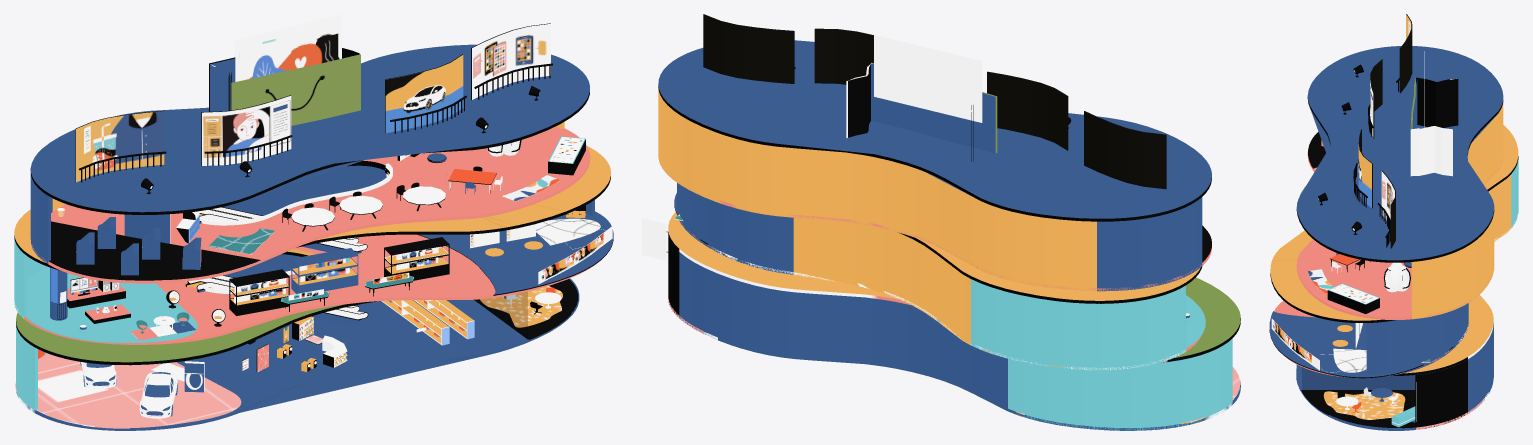
The picture shows the model from 3 angles, left to right: view 1: azimuth 30°, elevation 25°; view 2: azimuth 150°, elevation 25°; view 3: azimuth 270°, elevation 25°; orthographic projection. The views are drawn at different scales.
Parts seen in each view (by area): view 1: 商场, 封顶_1_1_2, 购物袋, 封顶_1_2, 封顶_1_1, 挤压_1, 立方体_9, 立方体_21, 立方体_8, 立方体_7, 立方体_6, 书架 (+31 smaller); view 2: 商场, 立方体_21, 购物袋, 立方体_6, 立方体_8, 立方体_9, 立方体_7, 立方体_3_4, 封顶_1_2; view 3: 商场, 购物袋, 封顶_1_1, 立方体_1_3, 封顶_1_2_3, 挤压_1_2, 立方体_10, 立方体_8, 立方体_6, 封顶_2, 立方体_7, 立方体_9 (+6 smaller).
Boxes of the visible parts, x1,y1,x2,y2 form: 商场: (14,44,610,430); 封顶_1_1_2: (15,353,241,428); 购物袋: (209,47,360,125); 封顶_1_2: (24,267,197,343); 封顶_1_1: (418,211,613,295); 挤压_1: (49,221,260,280); 立方体_9: (201,95,291,165); 立方体_21: (235,14,341,81); 立方体_8: (75,110,164,182); 立方体_7: (385,54,463,133); 立方体_6: (471,23,550,99); 书架: (291,248,358,293); 商场: (658,40,1240,430); 立方体_21: (874,34,982,122); 购物袋: (846,63,997,161); 立方体_6: (703,14,794,83); 立方体_8: (1084,111,1166,189); 立方体_9: (987,71,1068,150); 立方体_7: (814,28,873,84); 立方体_3_4: (642,218,666,260); 封顶_1_2: (1019,295,1205,364); 商场: (1270,46,1518,430); 购物袋: (1410,77,1458,176); 封顶_1_1: (1269,311,1453,378); 立方体_1_3: (1302,368,1414,389); 封顶_1_2_3: (1323,391,1405,419); 挤压_1_2: (1301,390,1415,428); 立方体_10: (1327,283,1379,314); 立方体_8: (1399,14,1412,93); 立方体_6: (1381,170,1395,248); 封顶_2: (1333,348,1366,372); 立方体_7: (1358,129,1372,208); 立方体_9: (1370,59,1382,138).
Size of the model in its own units: 3015 by 1542 by 1378.
